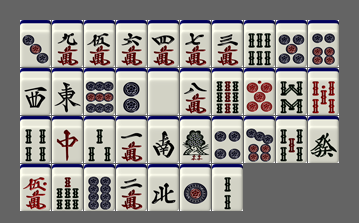0m: (20, 164, 51, 211)
0p: (244, 68, 275, 115)
0s: (308, 68, 339, 115)
1m: (116, 116, 147, 163)
1p: (180, 164, 211, 211)
1s: (180, 116, 211, 163)
1z: (52, 68, 83, 115)
2m: (116, 164, 147, 211)
2p: (116, 68, 147, 115)
2s: (212, 164, 243, 211)
2z: (148, 116, 179, 163)
3m: (212, 20, 243, 67)
3p: (20, 20, 51, 67)
3s: (84, 116, 115, 163)
3z: (20, 68, 51, 115)
4m: (148, 20, 179, 67)
4p: (212, 116, 243, 163)
4s: (20, 116, 51, 163)
4z: (148, 164, 179, 211)
5m: (84, 20, 115, 67)
5p: (276, 20, 307, 67)
5s: (276, 116, 307, 163)
5z: (148, 68, 179, 115)
6m: (116, 20, 147, 67)
6p: (308, 20, 339, 67)
6s: (244, 20, 275, 67)
6z: (308, 116, 339, 163)
7m: (180, 20, 211, 67)
7p: (244, 116, 275, 163)
7s: (52, 164, 83, 211)
7z: (52, 116, 83, 163)
8m: (180, 68, 211, 115)
8p: (84, 164, 115, 211)
8s: (276, 68, 307, 115)
9m: (52, 20, 83, 67)
9p: (84, 68, 115, 115)
9s: (212, 68, 243, 115)
